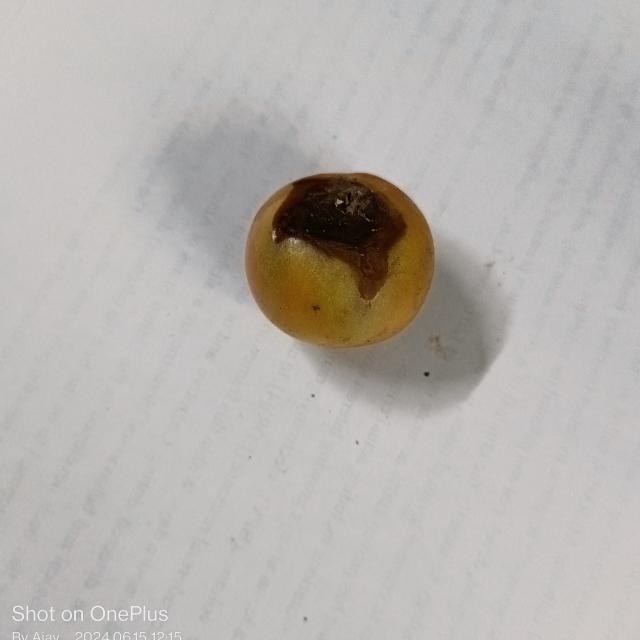Anthrocnose: (268, 173, 417, 295)
